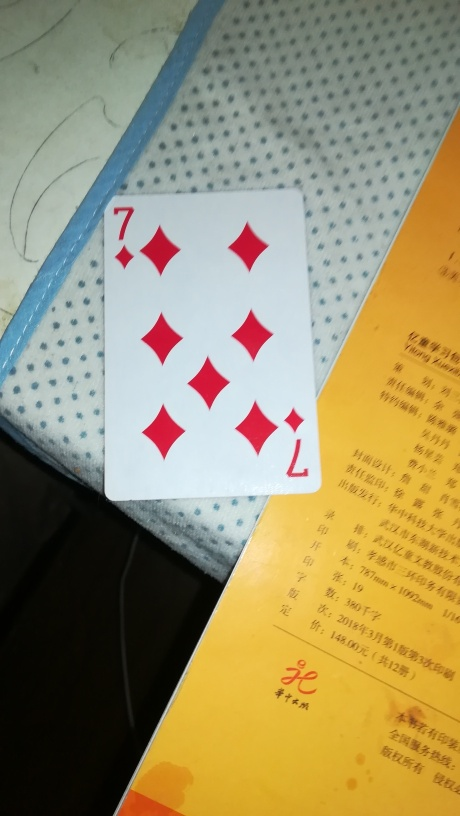fk 7: (100, 187, 324, 498)
